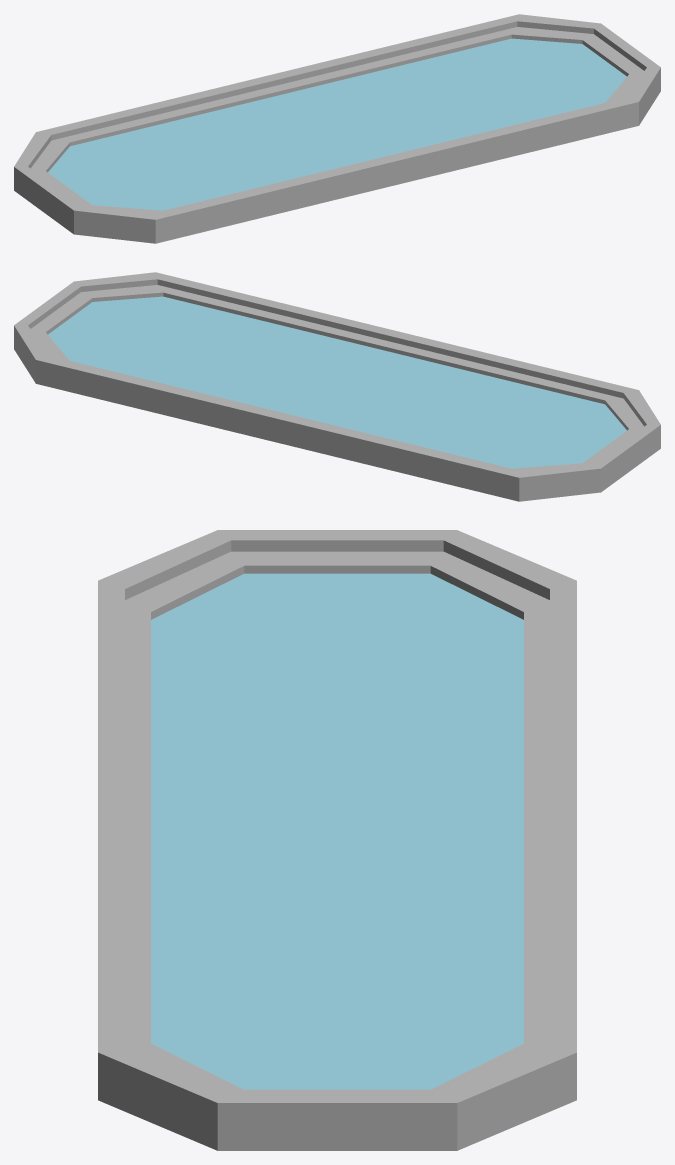
The model's file is MSH_RectangularPanel.fbx.
3 views of the same model, one above another, from view 1: azimuth 30°, elevation 25°; view 2: azimuth 150°, elevation 25°; view 3: azimuth 270°, elevation 25° (orthographic). The views are drawn at different scales.
Visible parts, largest first — view 1: polySurface71; view 2: polySurface71; view 3: polySurface71.
Boxes of the visible parts, x1,y1,x2,y2 form: polySurface71: (14,14,660,243); polySurface71: (14,272,660,501); polySurface71: (98,530,576,1150).
Size of the model in its own units: 17.02 by 0.6624 by 6.02.
